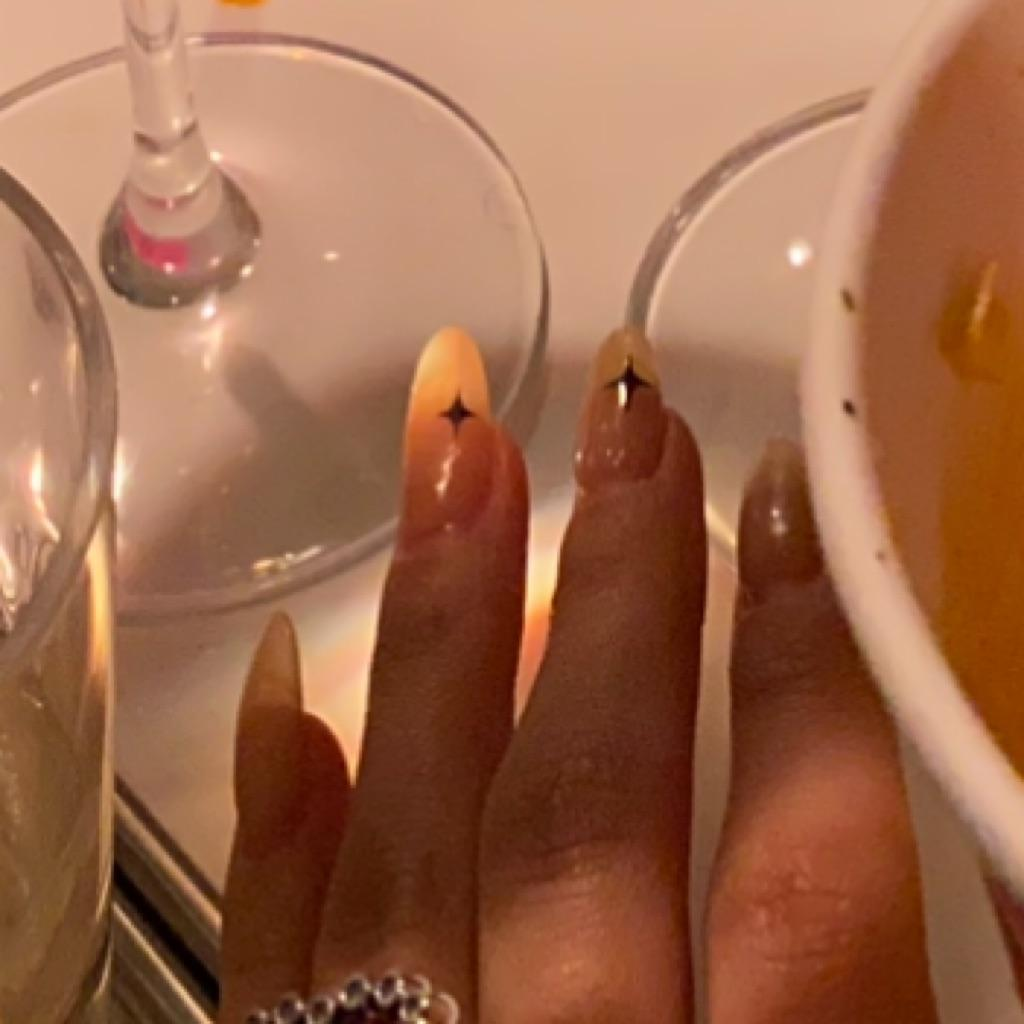nail: (305, 324, 530, 1023), (213, 609, 350, 1023), (571, 323, 667, 489)
